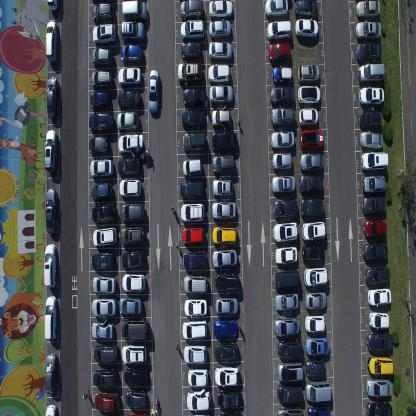car: (44, 128, 58, 174), (45, 185, 58, 234), (43, 242, 57, 287), (360, 150, 388, 172), (44, 293, 57, 340), (186, 388, 211, 412), (211, 130, 237, 153), (358, 84, 384, 107), (120, 21, 146, 44), (181, 318, 208, 340), (117, 133, 144, 155), (358, 62, 385, 84), (276, 361, 304, 382), (366, 356, 394, 377), (211, 152, 235, 176), (274, 268, 299, 291), (182, 248, 207, 271), (298, 173, 323, 196), (266, 18, 291, 41), (91, 201, 116, 224), (92, 22, 117, 45), (274, 316, 300, 338), (216, 388, 242, 410), (272, 198, 298, 220), (367, 331, 393, 353), (364, 266, 390, 288), (362, 242, 388, 264), (355, 40, 381, 62), (355, 18, 381, 40), (88, 111, 114, 133), (121, 318, 149, 338), (44, 353, 58, 393), (45, 19, 58, 62), (296, 84, 320, 107), (213, 317, 238, 339), (298, 198, 323, 220), (211, 200, 236, 222), (270, 129, 295, 151), (182, 130, 207, 152), (270, 107, 295, 129), (119, 224, 144, 246), (180, 19, 205, 41), (117, 66, 142, 88), (92, 226, 117, 248), (211, 224, 237, 245), (121, 342, 147, 363), (305, 381, 331, 402), (277, 384, 303, 405), (211, 247, 237, 268), (214, 271, 240, 292), (214, 365, 240, 386), (180, 107, 206, 128), (177, 61, 203, 82), (122, 0, 148, 21), (182, 272, 209, 292), (272, 220, 296, 242), (299, 128, 323, 150), (121, 248, 145, 270), (358, 108, 382, 130), (267, 41, 291, 63), (294, 16, 318, 38), (92, 297, 117, 318), (120, 202, 145, 223), (208, 40, 233, 61), (119, 44, 144, 65), (269, 86, 295, 106), (148, 68, 159, 115), (301, 242, 324, 264), (362, 174, 385, 196), (116, 110, 139, 132), (90, 180, 113, 202), (90, 46, 113, 68), (362, 196, 386, 217), (272, 174, 296, 195), (180, 178, 204, 199), (117, 89, 141, 110), (93, 367, 117, 388), (304, 336, 329, 356), (183, 297, 208, 317), (213, 342, 238, 362), (182, 344, 207, 364), (122, 272, 147, 292), (93, 344, 118, 364), (362, 219, 387, 239), (180, 202, 205, 222), (179, 0, 204, 20), (89, 158, 114, 178), (94, 392, 119, 412), (277, 340, 303, 359), (366, 288, 392, 307), (209, 18, 231, 40), (90, 68, 112, 90), (274, 245, 297, 266), (299, 152, 322, 173), (303, 267, 327, 287), (124, 366, 148, 386), (274, 293, 298, 313), (118, 157, 142, 177), (118, 178, 142, 198), (209, 84, 233, 104), (91, 250, 115, 270), (300, 221, 325, 240), (214, 296, 239, 315), (264, 0, 289, 19), (182, 87, 207, 106), (366, 378, 392, 396), (271, 152, 293, 173), (47, 76, 58, 118), (92, 320, 115, 340), (356, 0, 380, 19), (92, 274, 116, 293), (208, 0, 233, 18), (187, 368, 209, 388), (212, 177, 234, 197), (208, 64, 230, 84), (88, 134, 110, 154), (181, 225, 204, 244), (91, 2, 114, 21), (294, 0, 318, 18), (366, 400, 393, 416), (182, 156, 202, 177), (298, 106, 318, 127), (211, 107, 231, 128), (304, 359, 326, 378), (125, 389, 147, 408), (298, 64, 320, 83), (119, 296, 142, 314), (181, 41, 202, 60), (90, 90, 111, 109), (304, 314, 326, 332), (304, 291, 326, 309), (360, 131, 382, 149), (272, 65, 292, 84), (368, 311, 388, 329), (277, 405, 303, 415), (307, 404, 330, 415), (46, 0, 59, 13), (46, 403, 58, 415)
